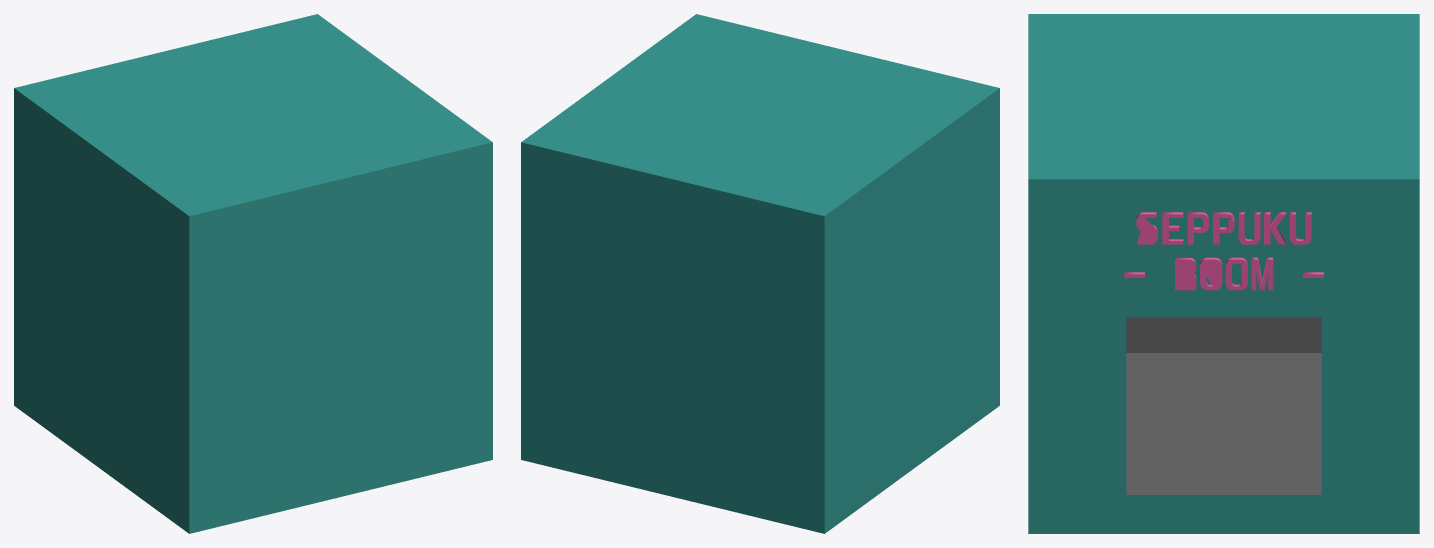
File: SeppukuRoom.fbx
3 renders of one model, left to right at view 1: azimuth 30°, elevation 25°; view 2: azimuth 150°, elevation 25°; view 3: azimuth 270°, elevation 25°, orthographic. The views are drawn at different scales.
Parts seen in each view (by area): view 1: SeppukuRoom; view 2: SeppukuRoom; view 3: SeppukuRoom, SeppukuRoomText.
Part boxes in pixels (x1,y1,x2,y2): SeppukuRoom: (14, 14, 492, 533); SeppukuRoom: (521, 14, 999, 533); SeppukuRoom: (1028, 14, 1419, 533); SeppukuRoomText: (1124, 212, 1323, 290).
Size of the model in its own units: 20.97 by 20 by 20.
